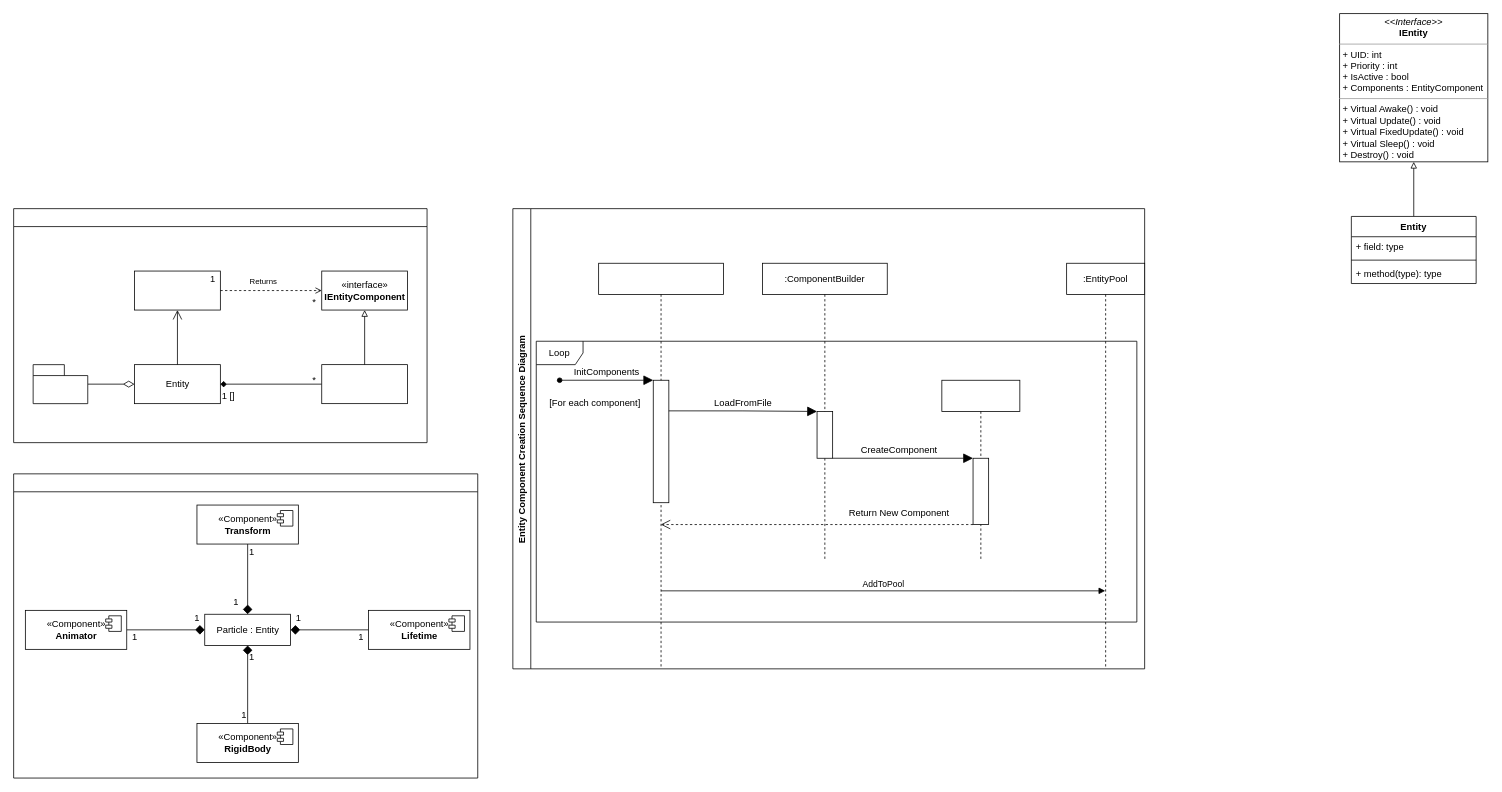
Image size: 1502x792. Some labels were removed from this diagram. Here are the shapes that lost their labels. From the top down, the box of each, then its label:
(134, 270, 220, 310): ComponentBuilder
(13, 208, 427, 443): Component Factory Overview
(32, 364, 88, 404): <<XML>> Entity Data
(321, 364, 408, 404): EntityComponent
(598, 262, 723, 669): :Entity
(941, 379, 1020, 560): :IEntityComponent
(13, 473, 478, 778): Particle Entity Example
